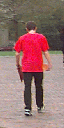person: (12, 18, 53, 115)
